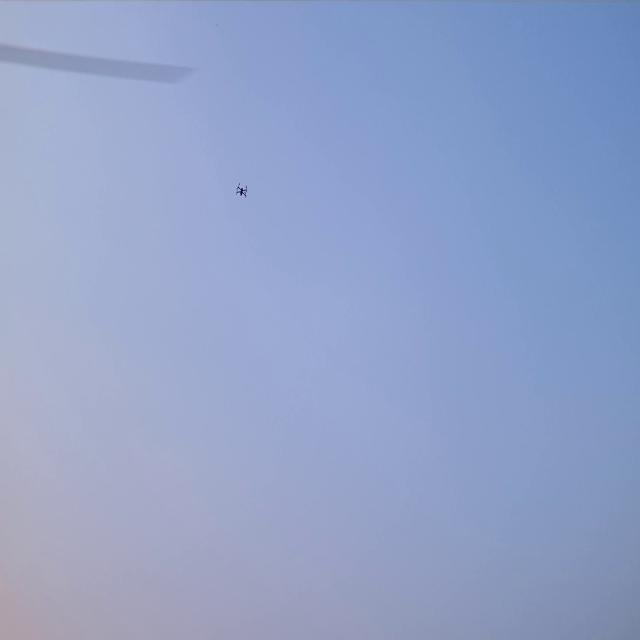UAV: (233, 181, 251, 203)
